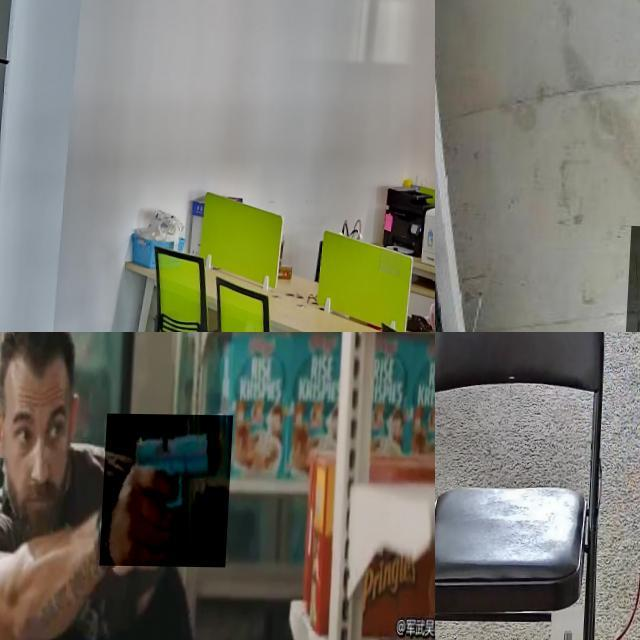gun-knife-thesis - v11 Yolov5 augmented: (105, 413, 236, 566)
